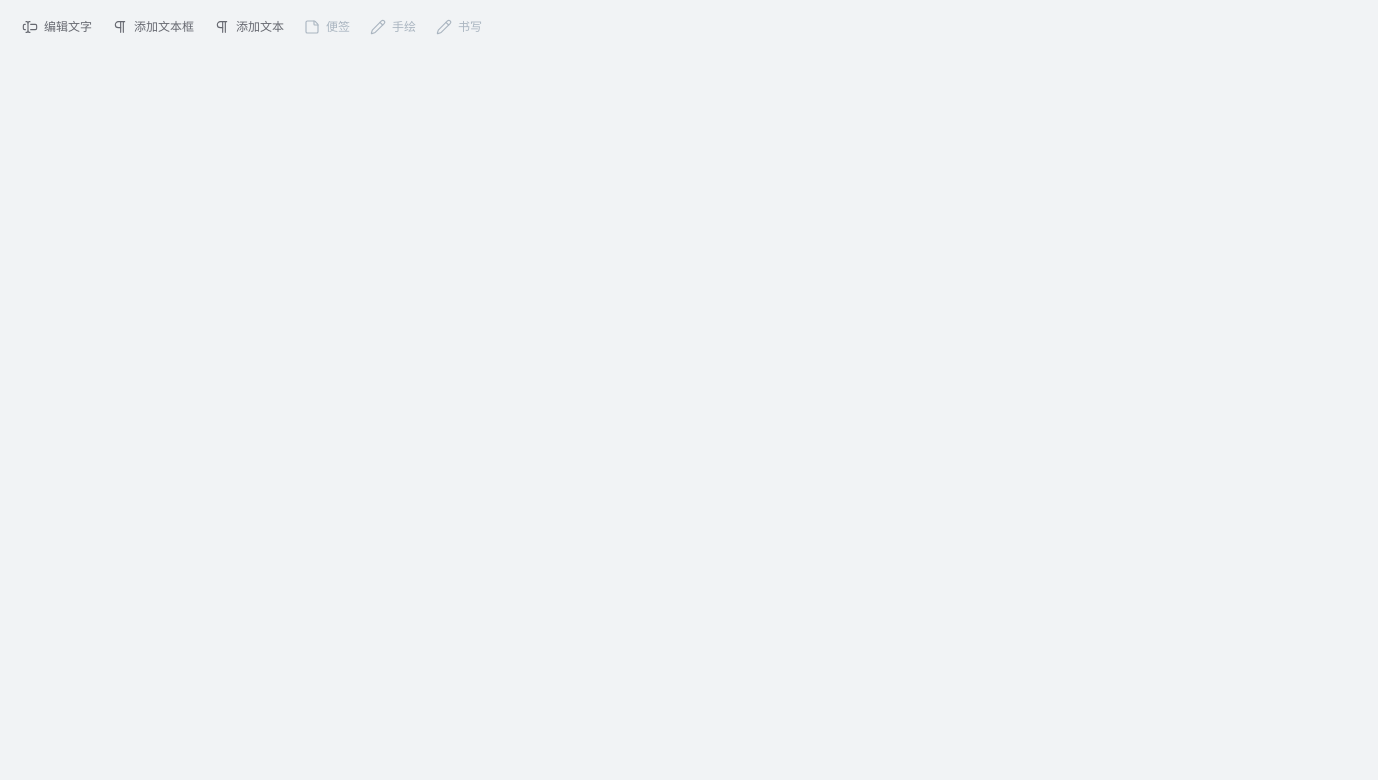
Test case: PageTextLayer text markup › reports why text markup is unavailable without annotation permission
Press the mouse on the element named "文本层" at (252, 27), box [12,12,492,42]
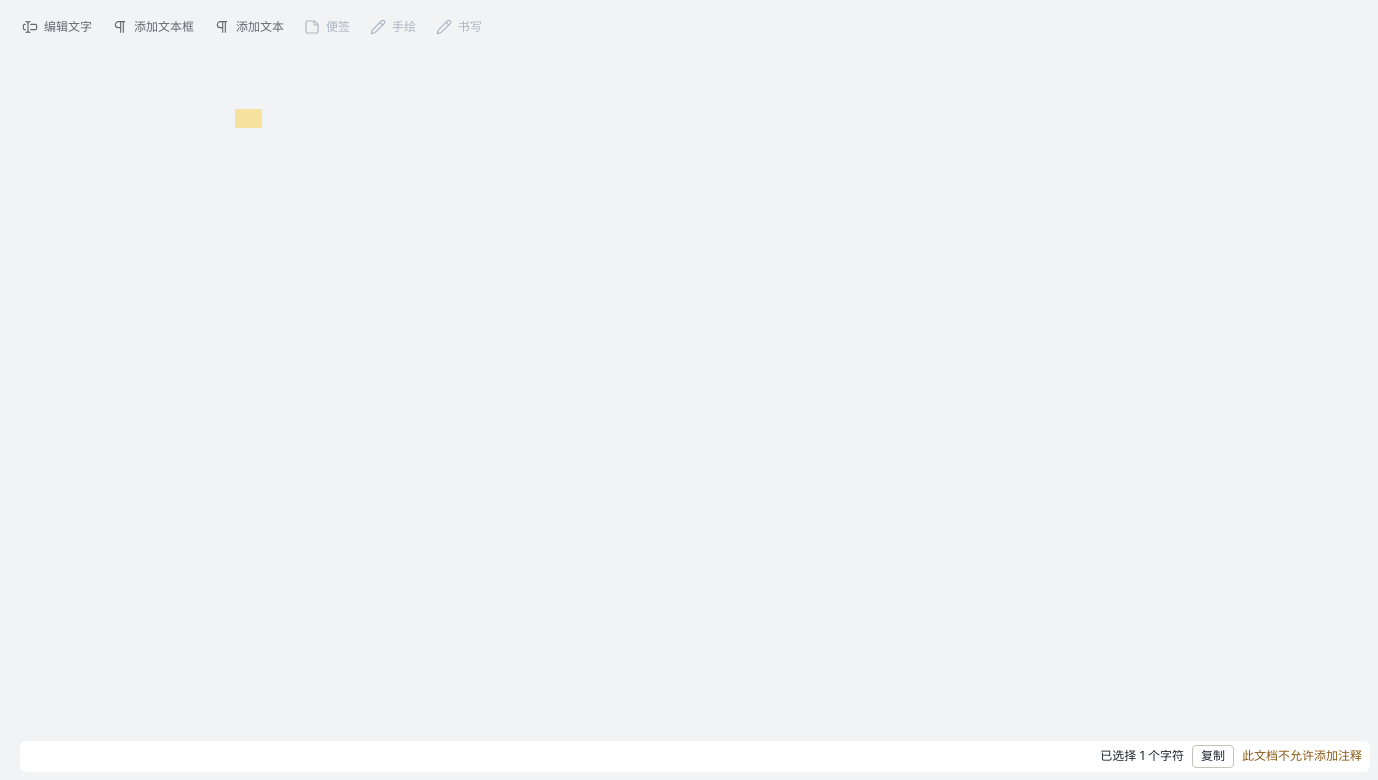
Result: the text "此文档不允许添加注释" is shown at [1242,748,1362,765]
